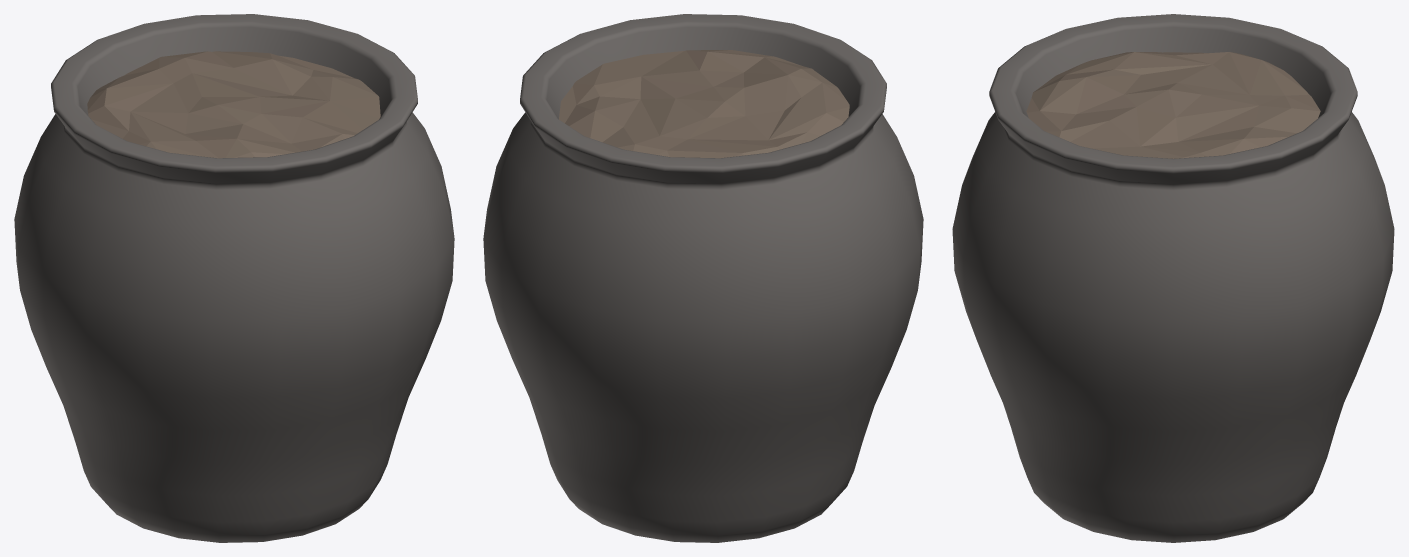
The model's file is Flower_Pot.fbx.
The picture shows the model from 3 angles, left to right: view 1: azimuth 30°, elevation 25°; view 2: azimuth 150°, elevation 25°; view 3: azimuth 270°, elevation 25°; orthographic projection.
Parts seen in each view (by area): view 1: Flower_Pot, Ground; view 2: Flower_Pot, Ground; view 3: Flower_Pot, Ground.
Boxes of the visible parts, box(x1,y1,x2,y2) form: Flower_Pot: box(14, 14, 454, 542); Ground: box(87, 51, 380, 158); Flower_Pot: box(483, 14, 923, 542); Ground: box(559, 50, 849, 158); Flower_Pot: box(952, 14, 1394, 542); Ground: box(1026, 52, 1320, 158).
Bounding box in the file's own units: 57.35 × 57.19 × 57.35.
